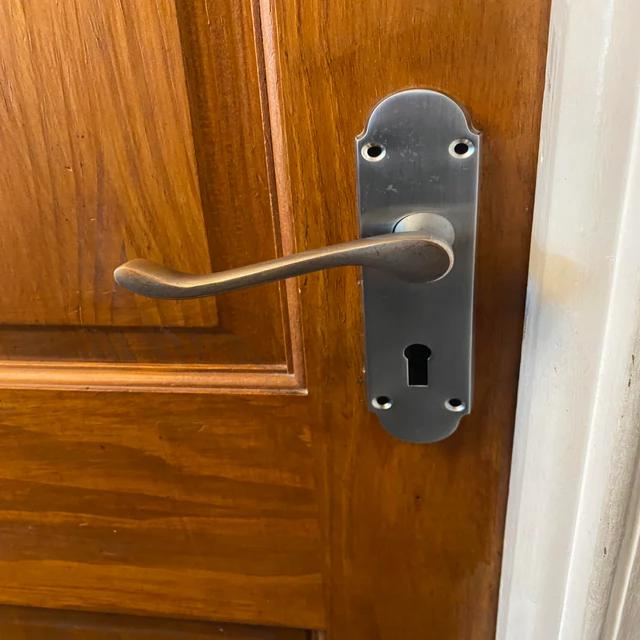door-handle: (115, 212, 455, 300)
